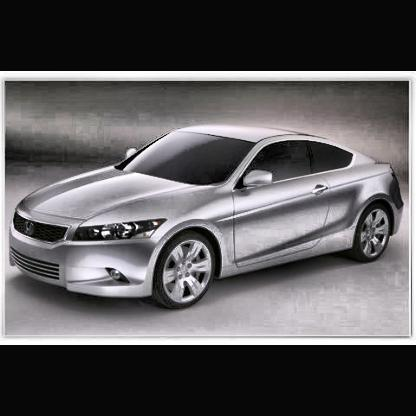Honda Accord Coupe 2012: (12, 127, 407, 311)
